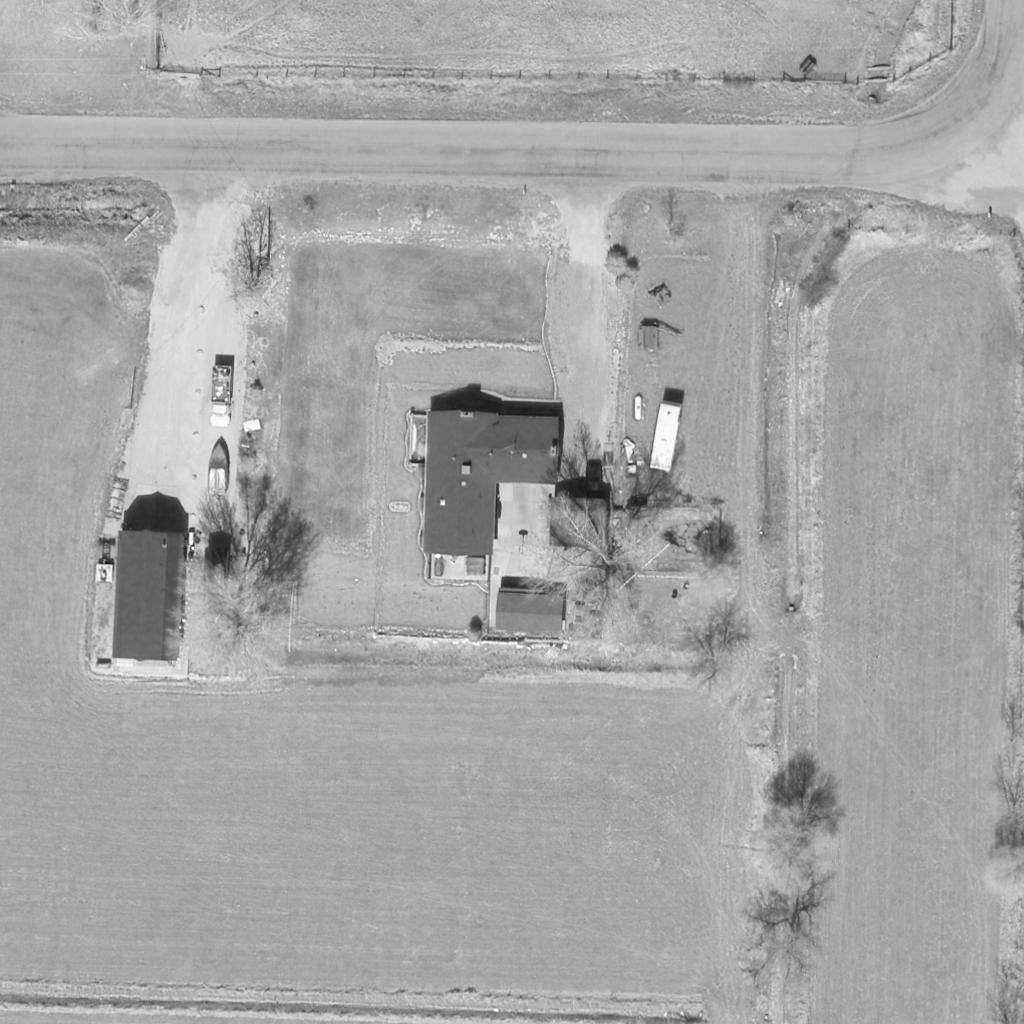vehicle: (650, 403, 680, 473), (208, 435, 230, 497), (211, 367, 233, 425), (585, 460, 603, 496)
